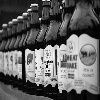beer: (27, 4, 50, 98)
